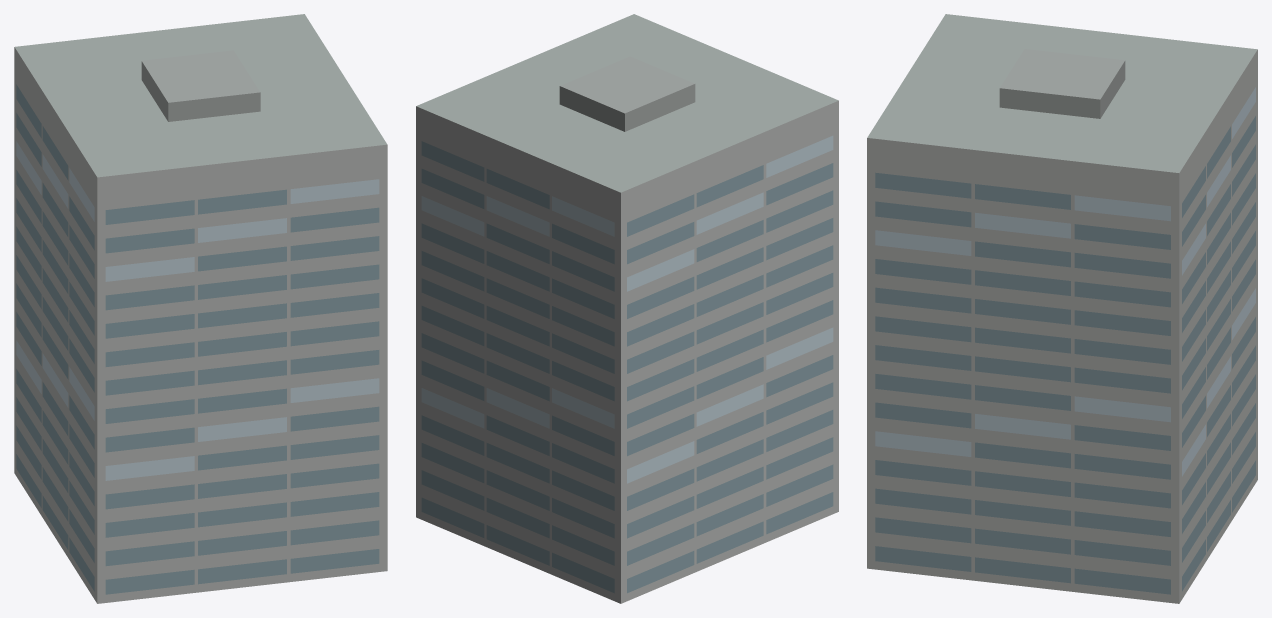
Rendered from fallback-olympic-park-foreon-308.glb.
3 views of the same model, side by side, from view 1: azimuth 30°, elevation 25°; view 2: azimuth 150°, elevation 25°; view 3: azimuth 270°, elevation 25° (orthographic). The views are drawn at different scales.
Parts seen in each view (by area): view 1: fallback-olympic-park-foreon-308; view 2: fallback-olympic-park-foreon-308; view 3: fallback-olympic-park-foreon-308.
Part boxes in pixels (x1=…): fallback-olympic-park-foreon-308: x1=14, y1=14, x2=387, y2=603; fallback-olympic-park-foreon-308: x1=416, y1=14, x2=838, y2=603; fallback-olympic-park-foreon-308: x1=867, y1=14, x2=1257, y2=603.
Bounding box in the file's own units: 36.26 × 47.81 × 37.61.
